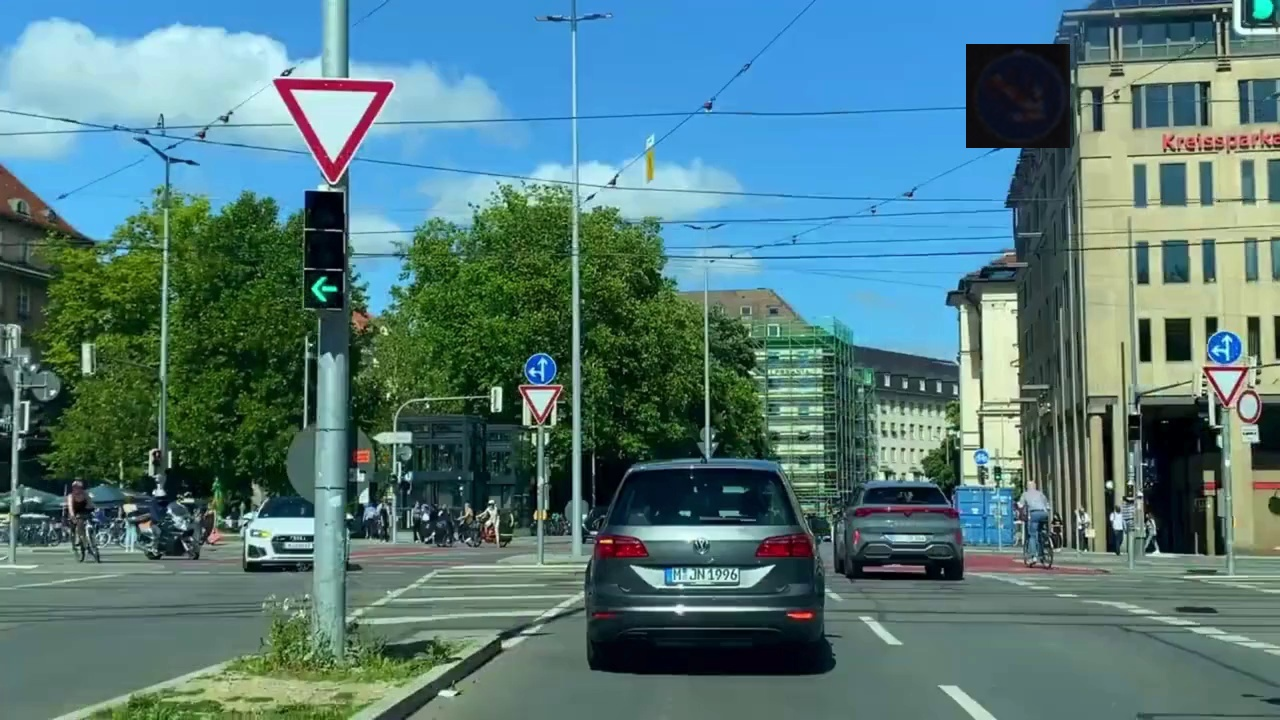Keep right: (966, 44, 1070, 148)
